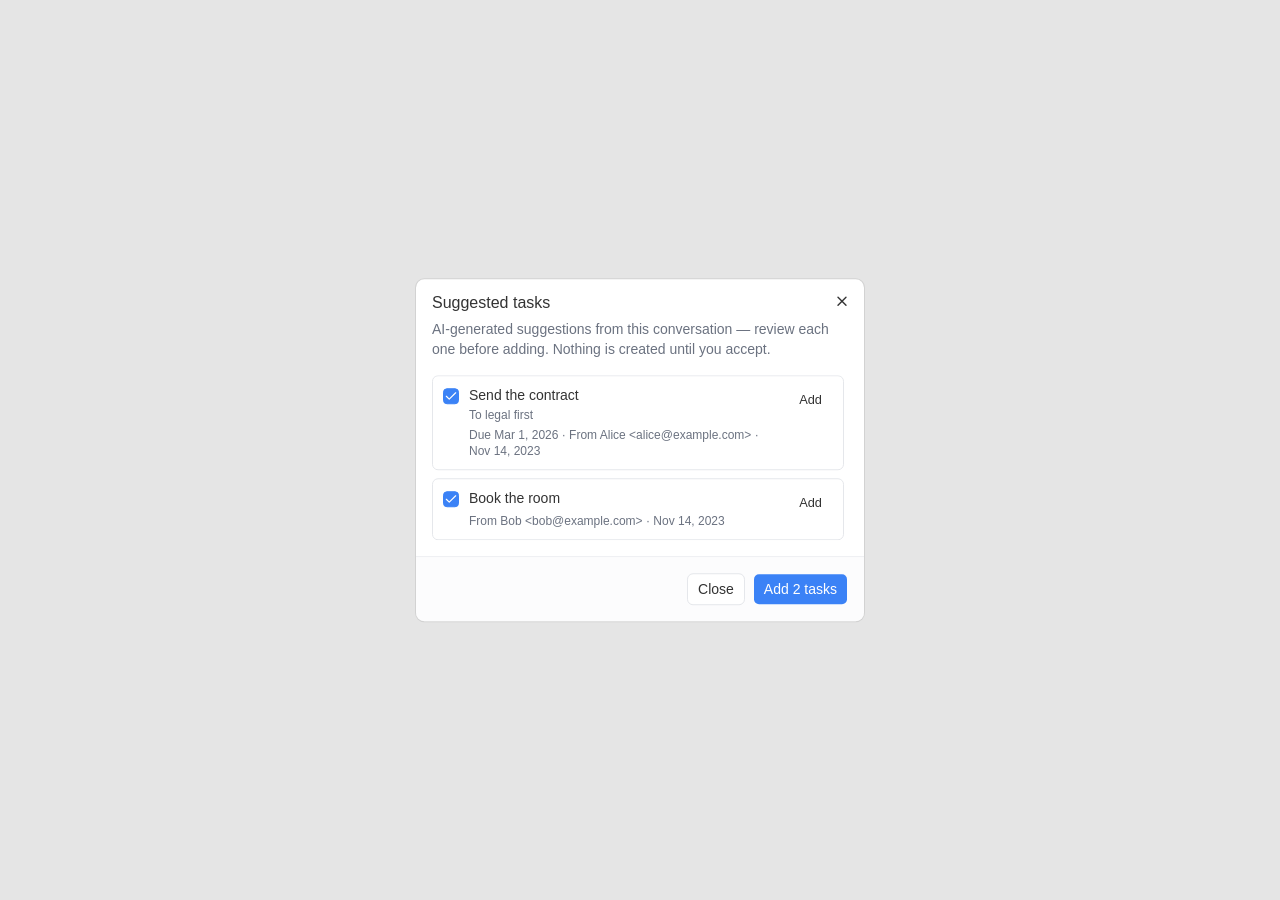
Scenario: TaskExtractionDialog accept path › sends only checked suggestions to the seam and marks them dismissed
The width and height of the screenshot is (1280, 900).
Expected: the text "Send the contract" is shown, top-left (469, 387), bottom-right (579, 403)
# Reject the second suggestion by unchecking it, then accept the rest.
Click the checkbox named "Include \"Book the room\"": (451,500) top-left (443, 492), bottom-right (459, 508)
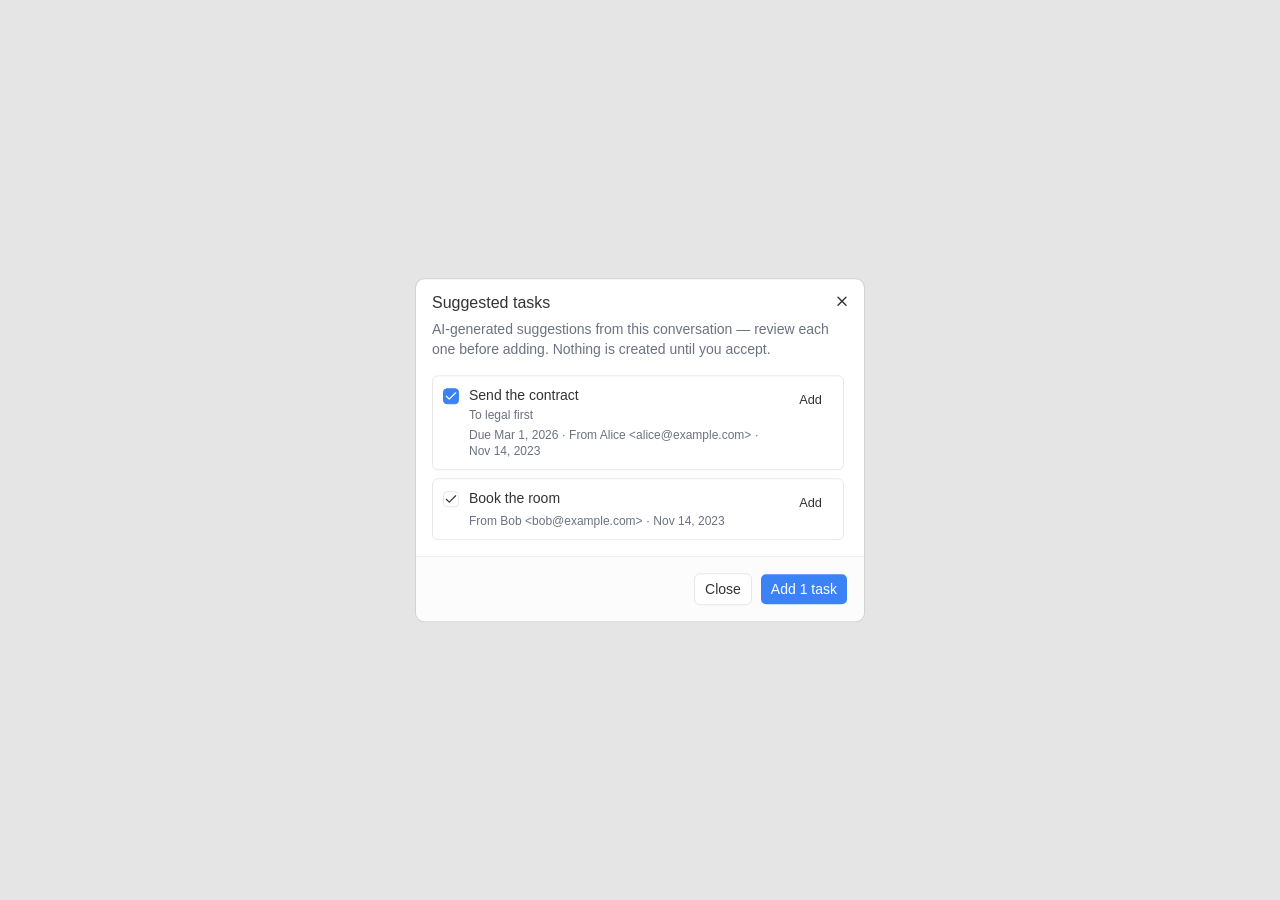
Click the button with test id "task-extraction-accept": (804,589) top-left (760, 573), bottom-right (848, 605)
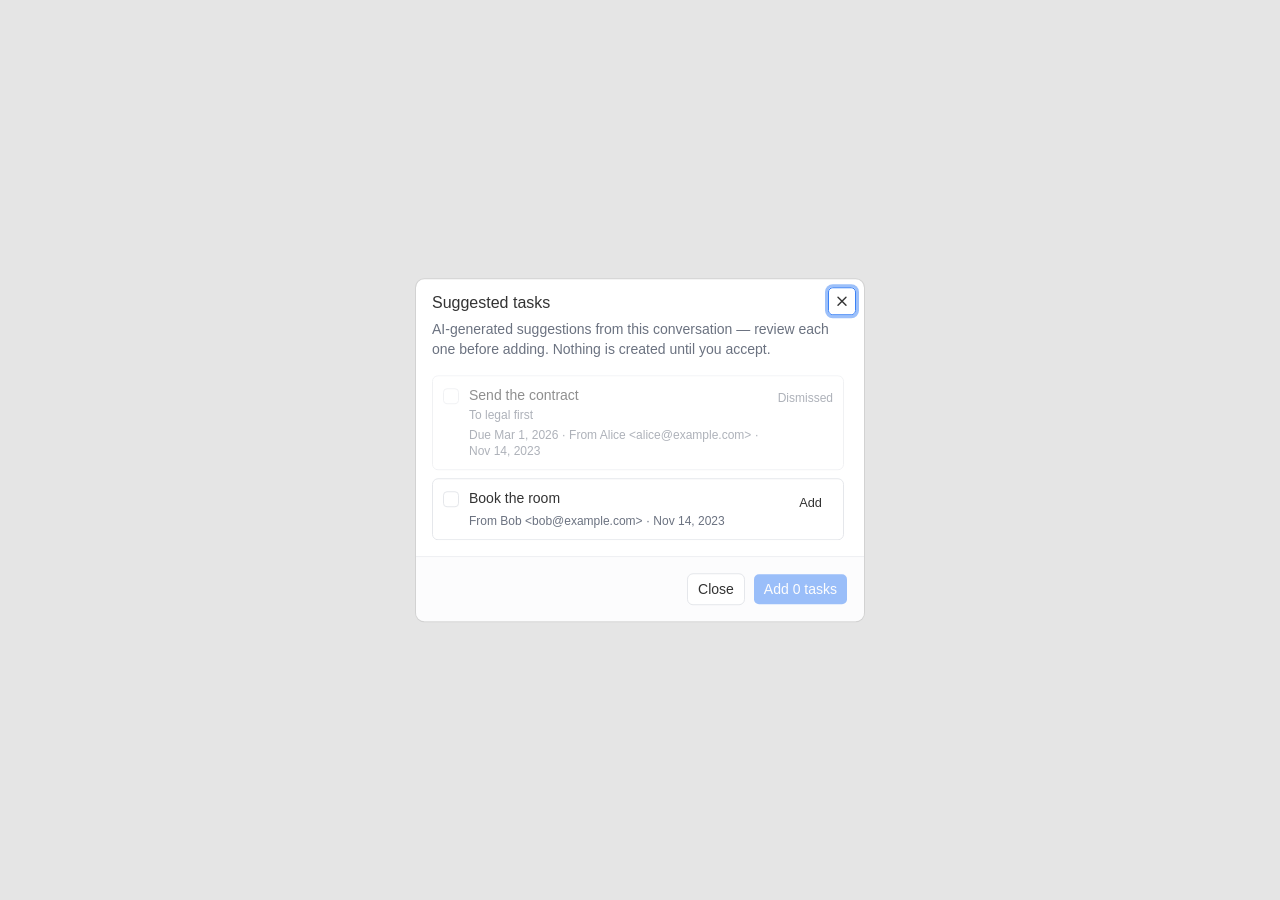
Expected: the button with test id "task-suggestion-add-1" is shown, top-left (788, 490), bottom-right (833, 518)
Now the text with test id "task-suggestion-state-0" reads "Dismissed", box top-left (778, 391), bottom-right (833, 405)
Now the button with test id "task-extraction-accept" reads "Add 0 tasks", box top-left (753, 573), bottom-right (848, 605)
